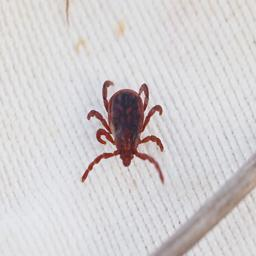Rhipicephalus sanguineus: (80, 80, 167, 184)
